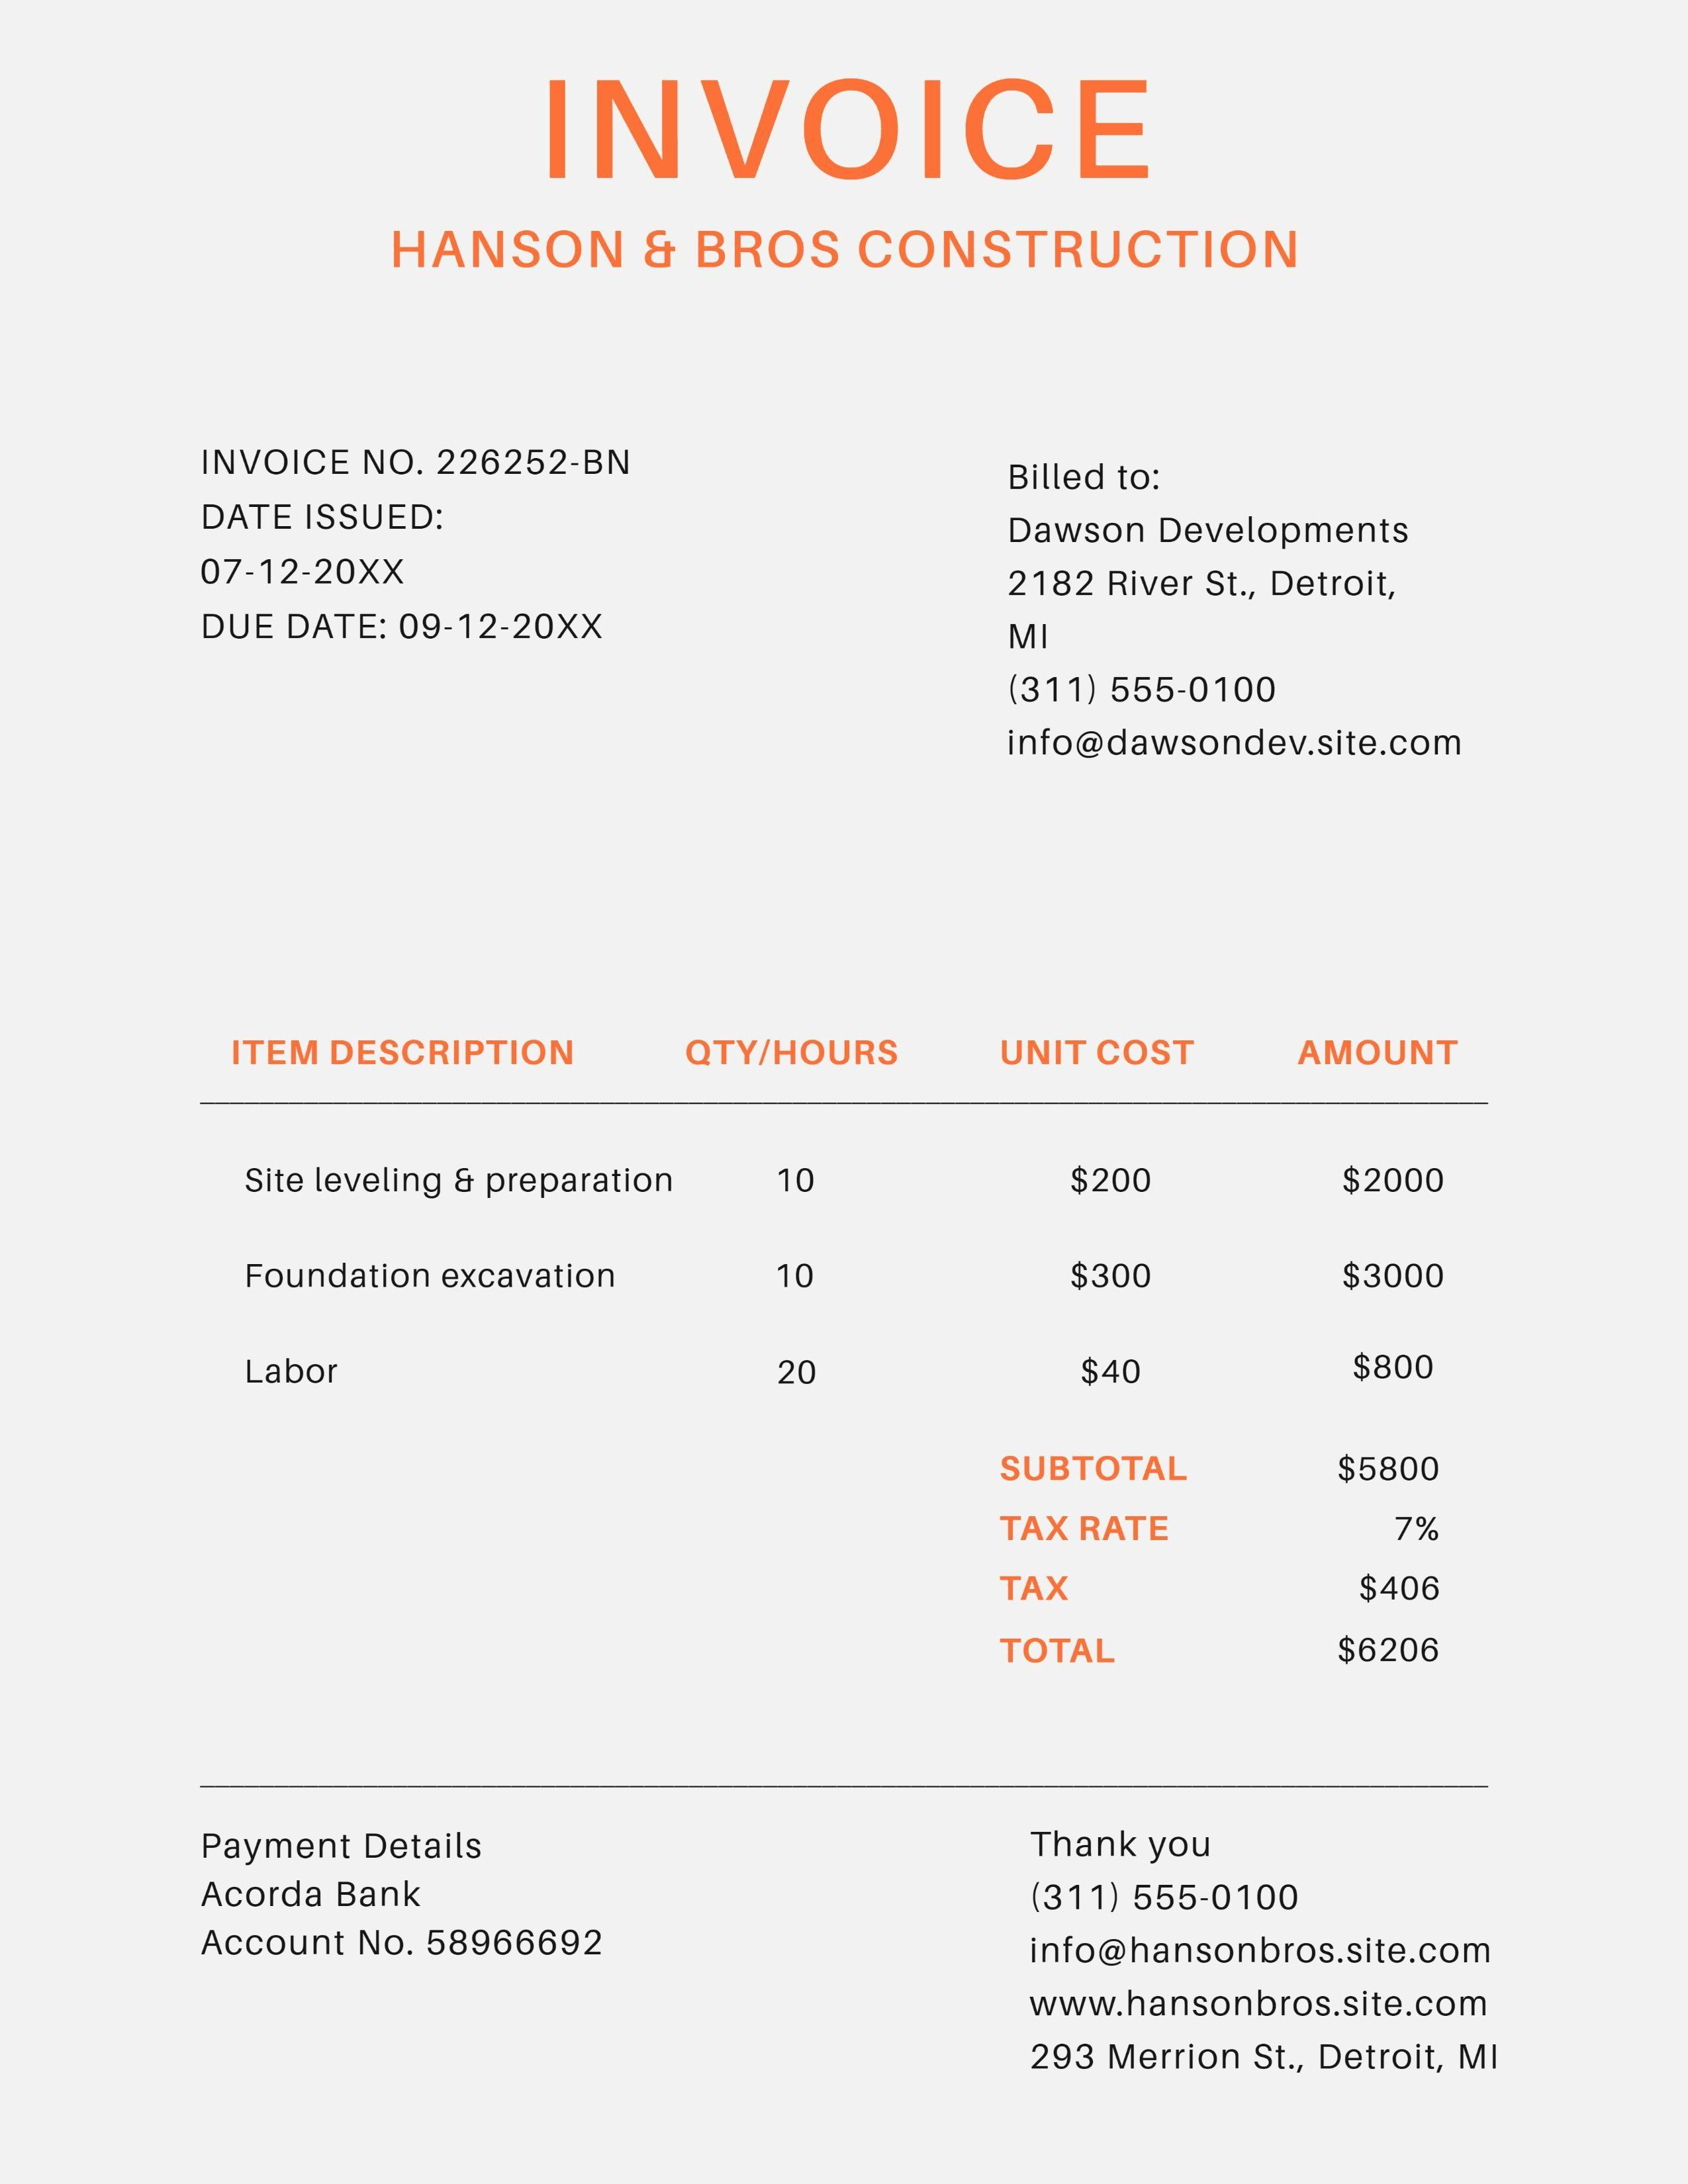ROI: (196, 1023, 1492, 1408), (992, 426, 1477, 760), (992, 1433, 1491, 1674), (189, 426, 663, 662), (379, 199, 1335, 286), (175, 1810, 635, 1968)
